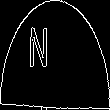N_S: (44, 29, 66, 81)
